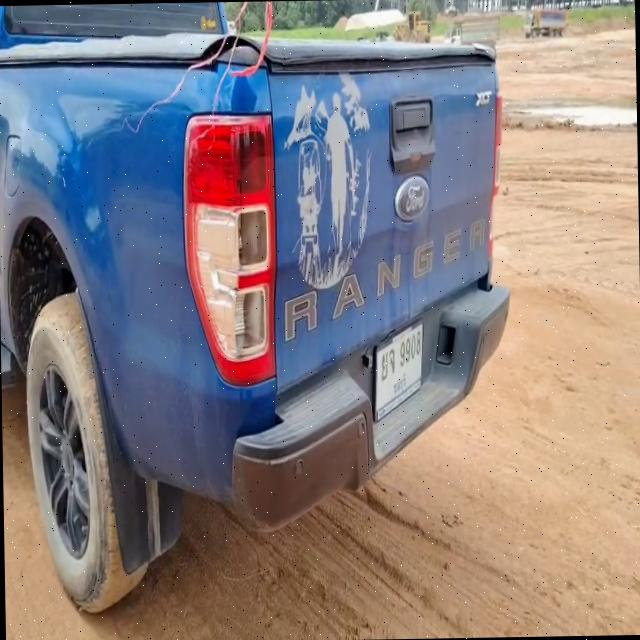Digit: (398, 330, 421, 368)
Licenseplate: (374, 315, 425, 425)
Provincename: (393, 371, 408, 395)
Thaichar: (380, 348, 396, 382)
